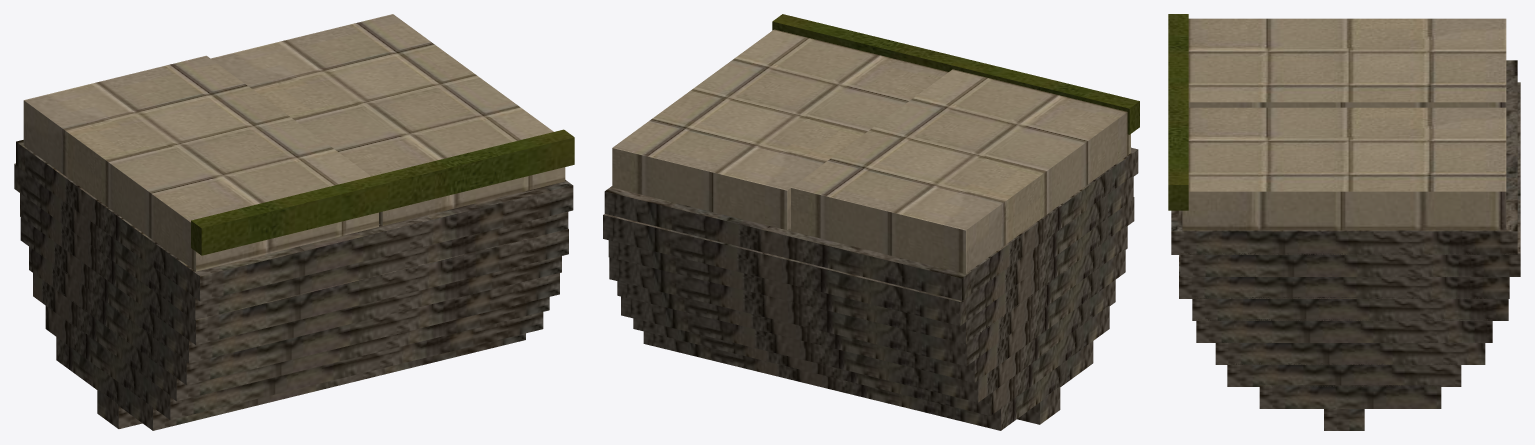
The model's file is plat_stone_mid_01.glb.
3 renders of one model, left to right at view 1: azimuth 30°, elevation 25°; view 2: azimuth 150°, elevation 25°; view 3: azimuth 270°, elevation 25°, orthographic. The views are drawn at different scales.
Visible parts, largest first — view 1: plat_stone_mid_01; view 2: plat_stone_mid_01; view 3: plat_stone_mid_01.
Part boxes in pixels (<box>): plat_stone_mid_01: <box>14,14,574,430</box>; plat_stone_mid_01: <box>603,14,1139,430</box>; plat_stone_mid_01: <box>1168,14,1520,430</box>.
Bounding box in the file's own units: 1 × 0.67 × 0.8705.
Materials: 3 (3 with a texture image).
